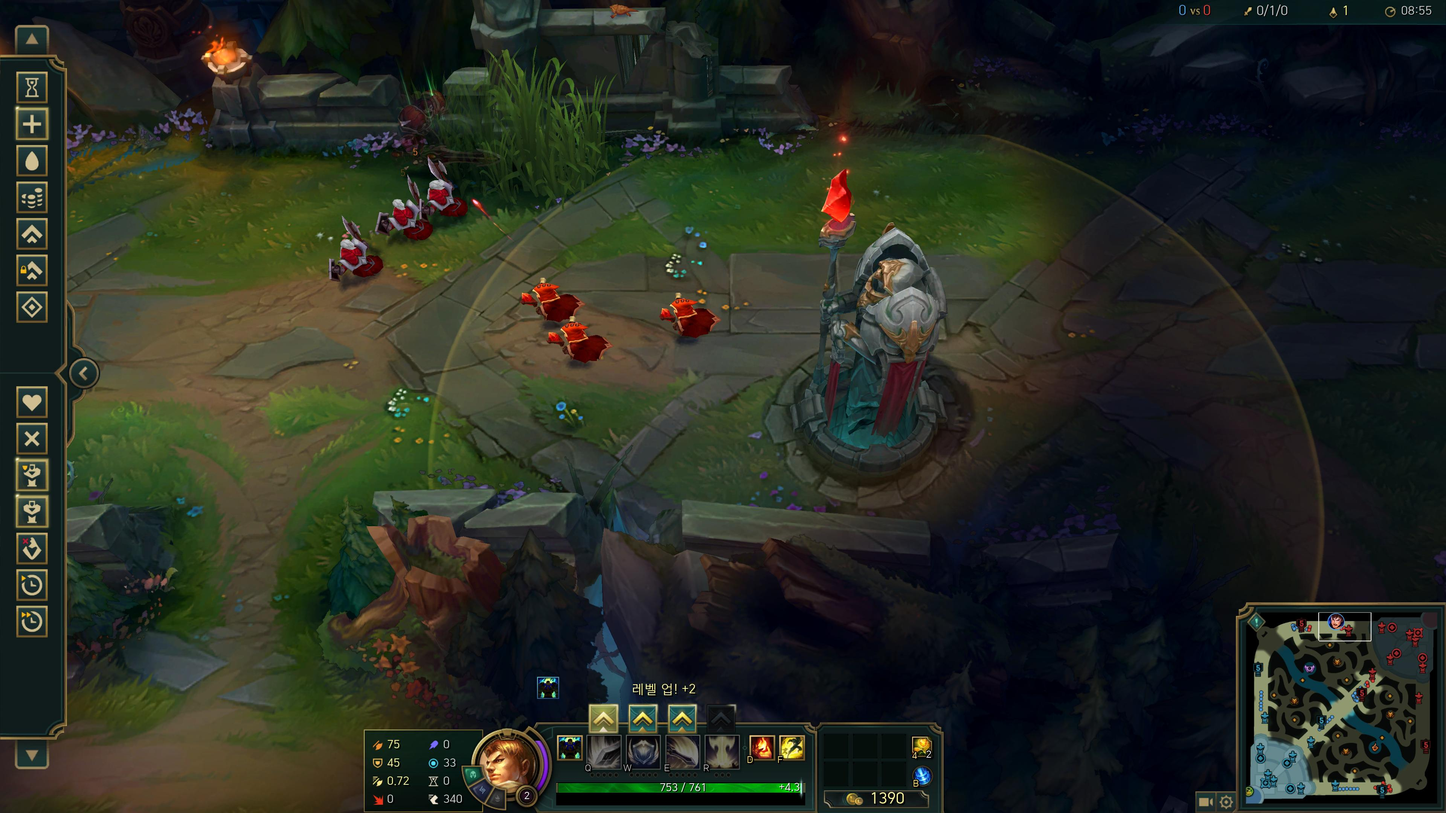enemy-caster-minion: (520, 277, 583, 320), (660, 292, 721, 336), (547, 321, 611, 362)
enemy-melee-minion: (372, 174, 432, 238), (327, 215, 382, 279), (426, 154, 467, 215)
enemy-tower: (765, 169, 970, 509)
